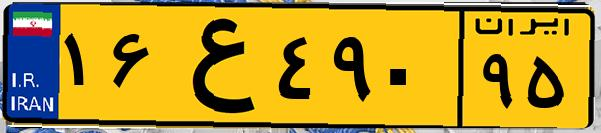0: (385, 28, 445, 110)
1: (57, 26, 110, 100)
4: (270, 28, 330, 110)
5: (525, 38, 570, 115)
6: (110, 28, 158, 98)
9: (330, 28, 385, 110), (475, 38, 525, 113)
ع: (158, 12, 270, 120)
